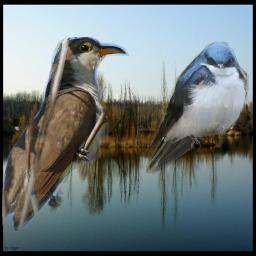Cuckoo: (2, 37, 157, 232)
Swallow: (142, 41, 249, 174)
